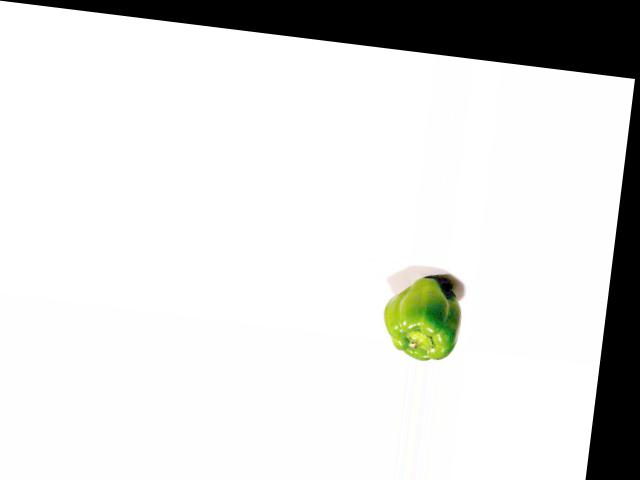bell_pepper: (376, 267, 467, 364)
